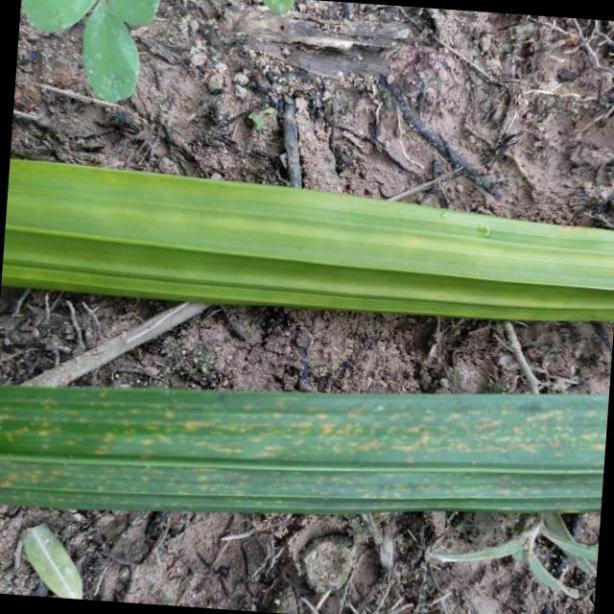nitrogen: (5, 152, 614, 323)
